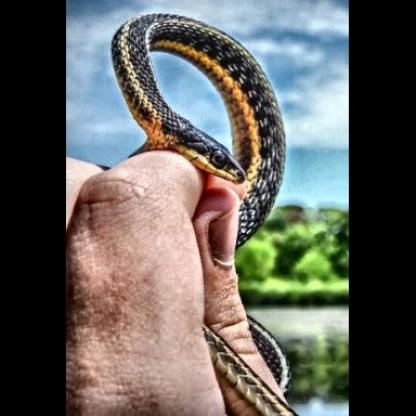Snake: (112, 5, 290, 248)
